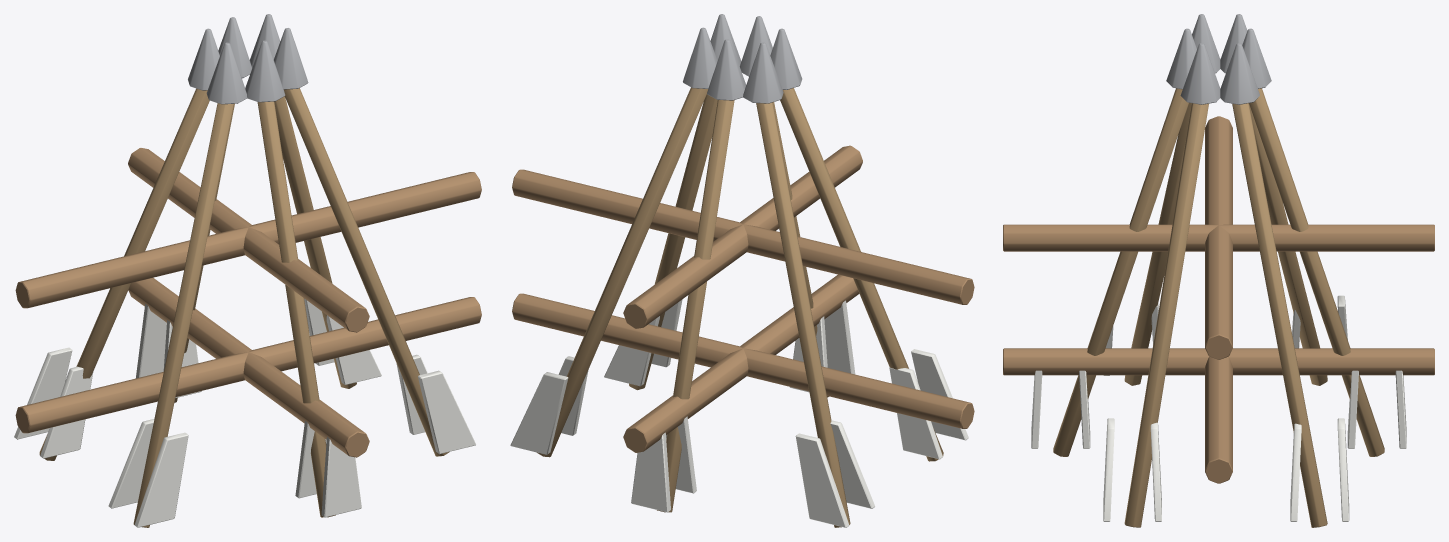
The model's file is IT_arrow_bundle.fbx.
3 views of the same model, side by side, from view 1: azimuth 30°, elevation 25°; view 2: azimuth 150°, elevation 25°; view 3: azimuth 270°, elevation 25° (orthographic).
Visible parts, largest first — view 1: IT_arrow_bundle; view 2: IT_arrow_bundle; view 3: IT_arrow_bundle.
Boxes of the visible parts, x1,y1,x2,y2 form: IT_arrow_bundle: (14, 14, 481, 527); IT_arrow_bundle: (510, 14, 974, 527); IT_arrow_bundle: (1003, 14, 1434, 527).
Bounding box in the file's own units: 0.72 × 0.6537 × 0.6.
